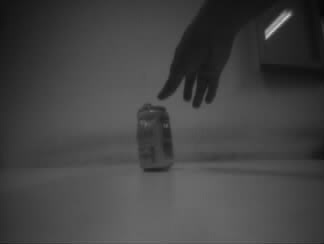Tin can: (135, 104, 173, 171)
